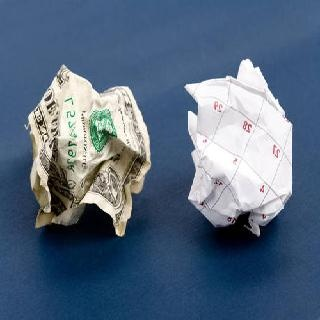8/可回收垃圾/纸: (24, 64, 153, 237), (184, 57, 293, 236)
